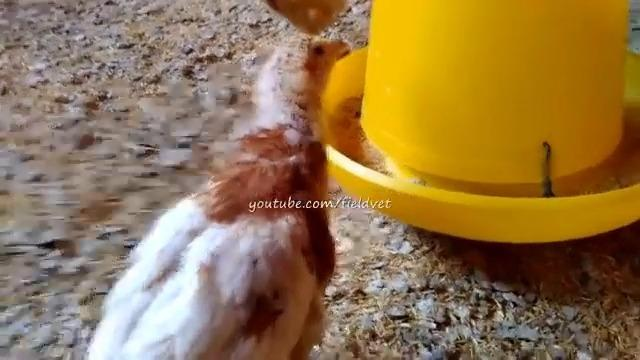Normal: (192, 28, 368, 336)
